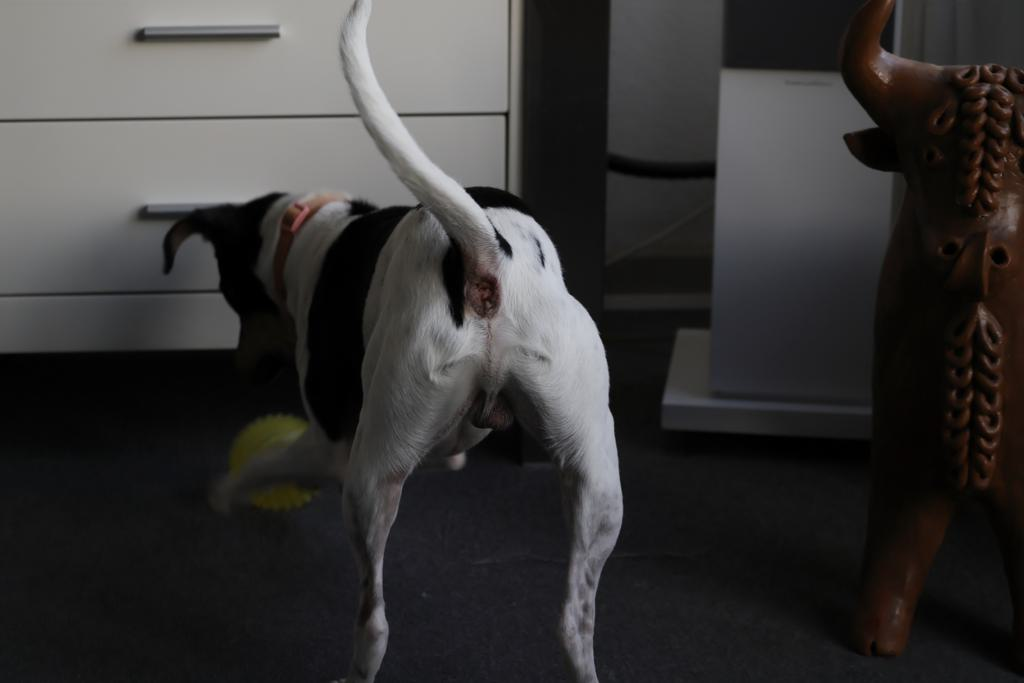Cattle: (824, 0, 1024, 665)
Dog: (154, 0, 629, 683)
